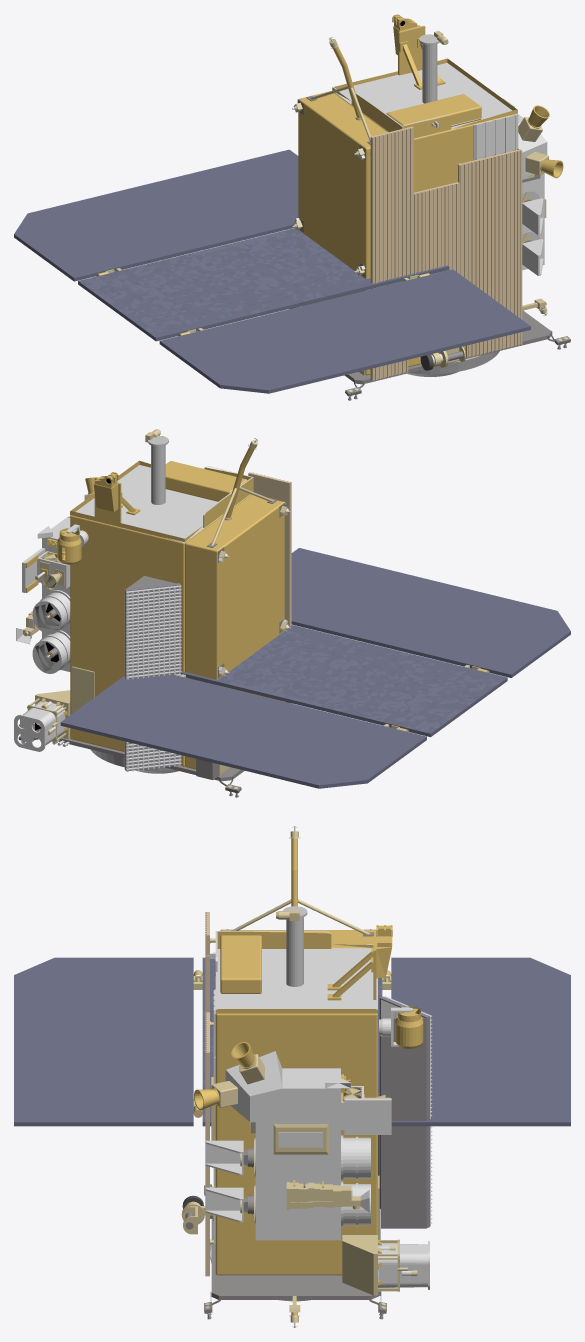
Rendered from lro-satellite.glb.
The picture shows the model from 3 angles, top to bottom: view 1: azimuth 30°, elevation 25°; view 2: azimuth 150°, elevation 25°; view 3: azimuth 270°, elevation 25°; orthographic projection. The views are drawn at different scales.
Parts seen in each view (by area): view 1: Layer_4, Layer_0, Layer_1; view 2: Layer_4, Layer_0, Layer_1; view 3: Layer_0, Layer_4, Layer_1.
Part boxes in pixels (left/top/right/bottom): Layer_4: left=14, top=149, right=530, bottom=393; Layer_0: left=290, top=14, right=570, bottom=400; Layer_1: left=419, top=31, right=448, bottom=103; Layer_4: left=60, top=548, right=570, bottom=788; Layer_0: left=14, top=438, right=291, bottom=797; Layer_1: left=145, top=429, right=168, bottom=504; Layer_0: left=181, top=826, right=432, bottom=1327; Layer_4: left=14, top=957, right=570, bottom=1126; Layer_1: left=276, top=906, right=307, bottom=986.
Bounding box in the file's own units: 33.28 × 26.29 × 32.26.
